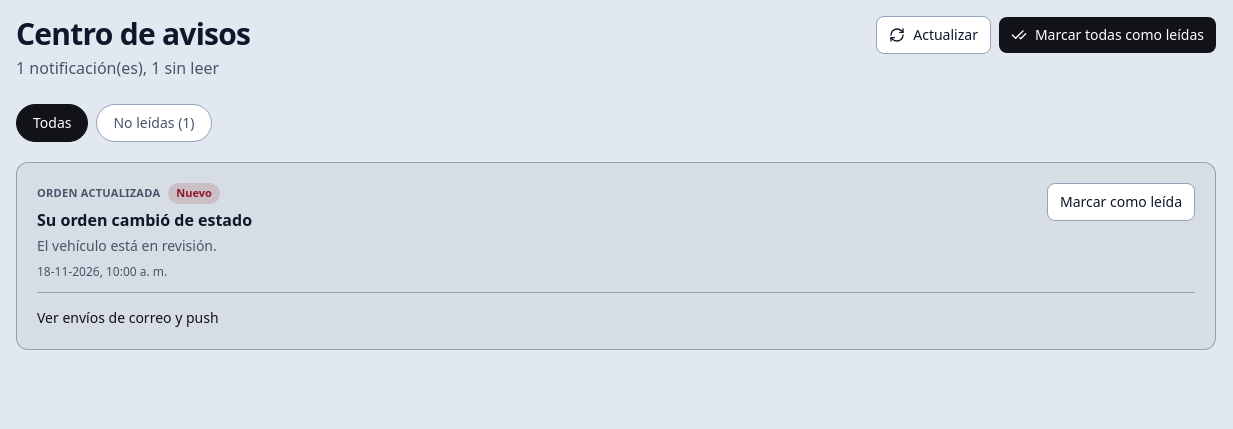
NotificationsPage: estados de carga, error y lista vacía › muestra el error al no poder marcar todos los avisos como leídos
Click the button "Marcar todas como leídas".
click(1107, 35)  # box [999,17,1216,53]
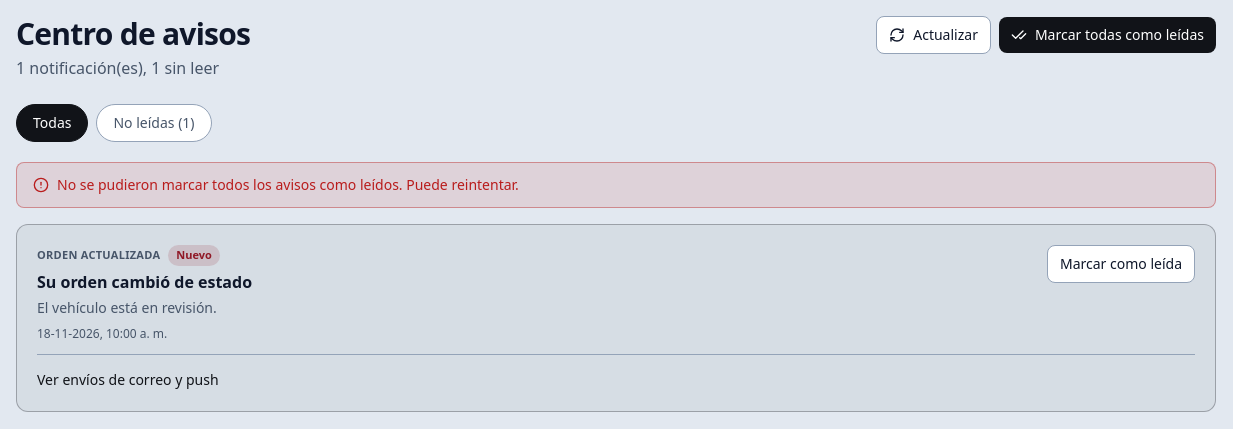
Expected: the text "No se pudieron marcar todos los avisos como leídos. Puede reintentar." is shown, [57,175,519,195]
